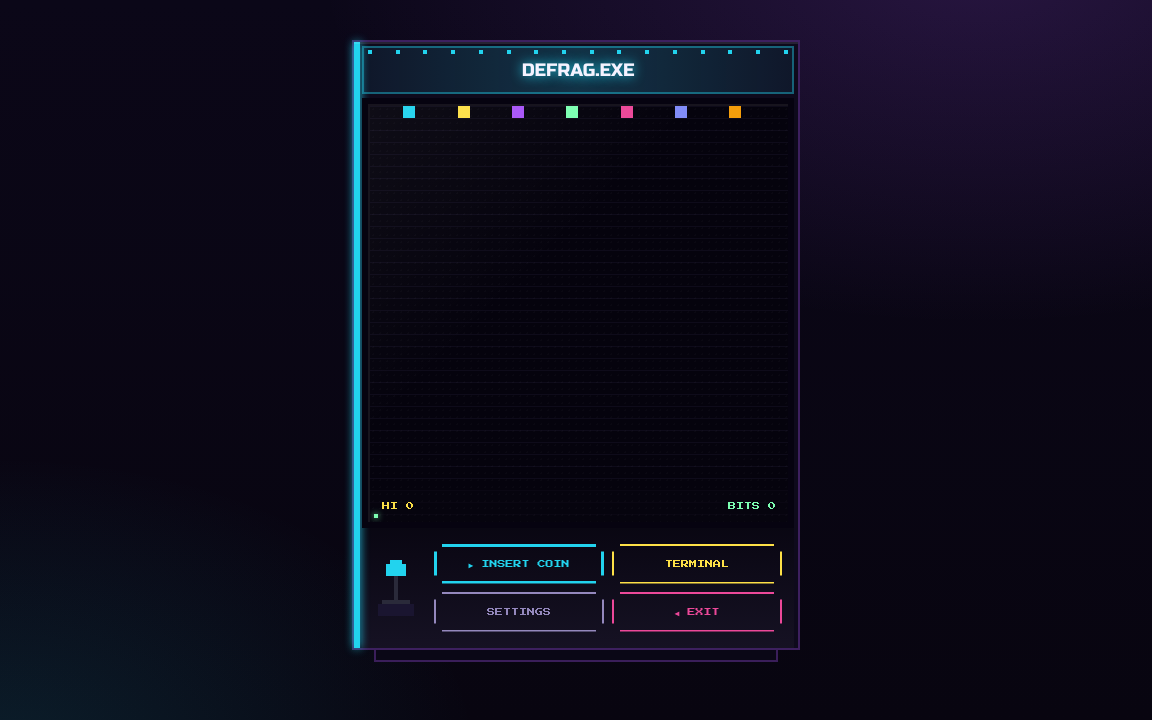
Test: ArcadeMachine › opens the shop on TERMINAL and settings on SETTINGS
The width and height of the screenshot is (1152, 720).
Click the button "TERMINAL" at (697,564), box [612,544,782,584]
(page scrolled)
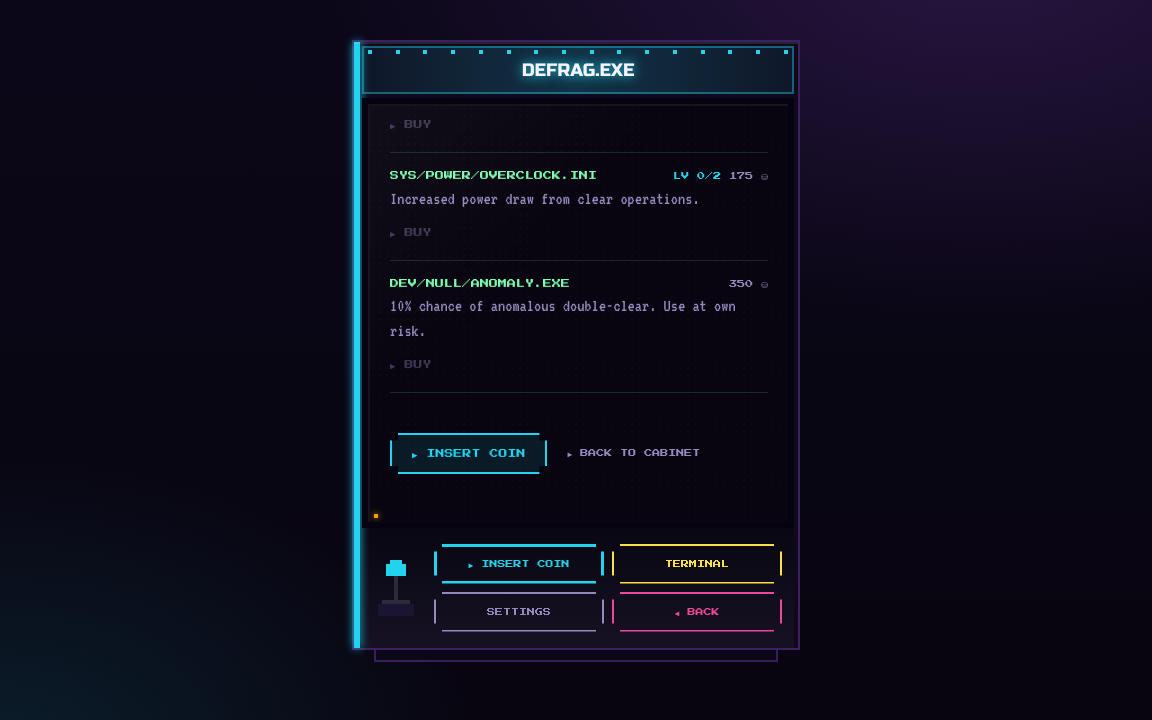
Click the button "▶ BACK TO CABINET" at (634,453), box [567,447,700,459]
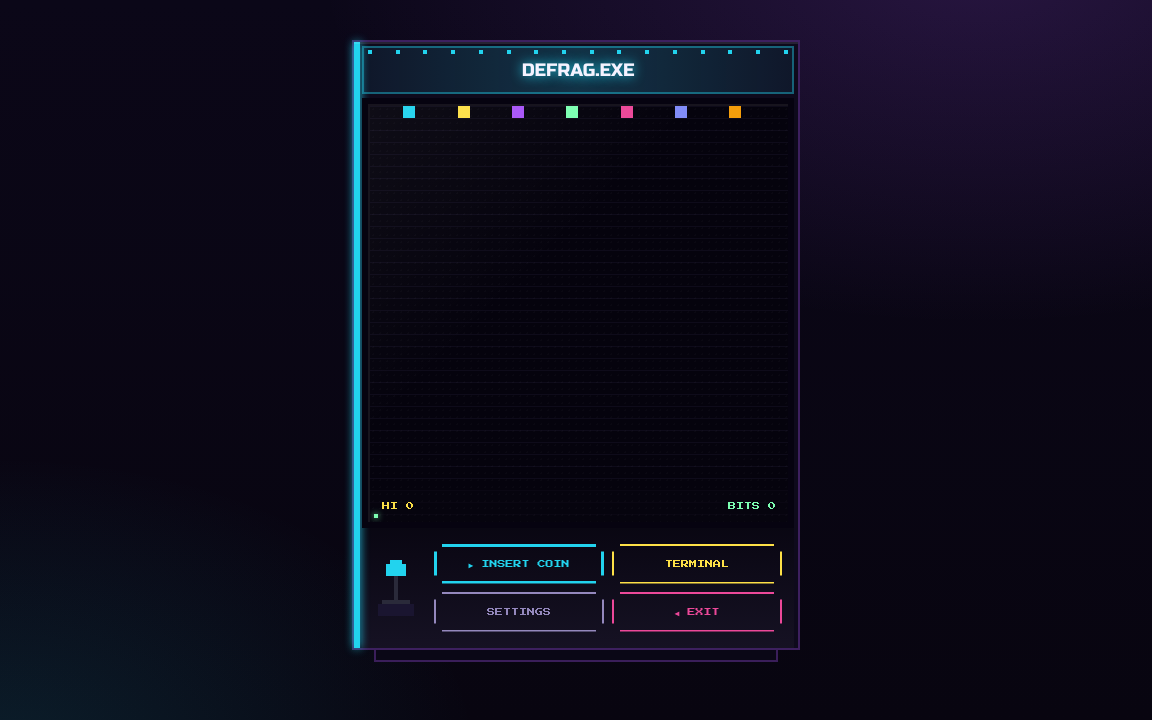
Click the button "SETTINGS" at (519,612), box [434,592,604,632]
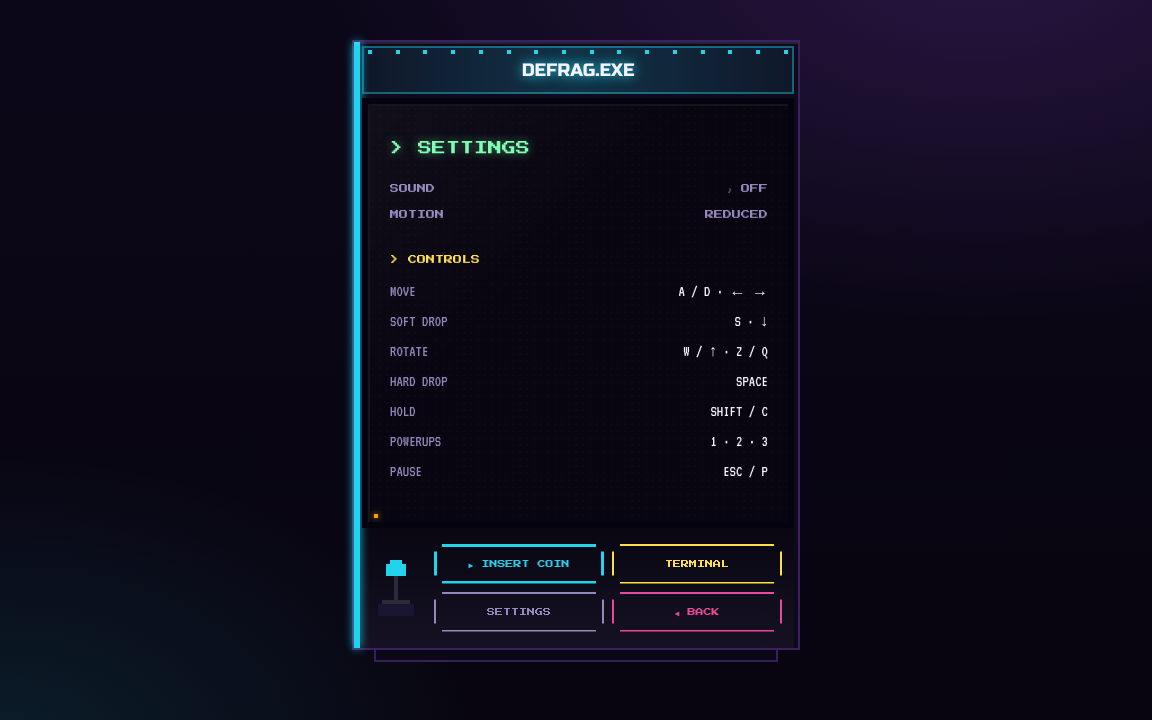
Expected: the text "> CONTROLS" is shown, [390,255,480,264]
